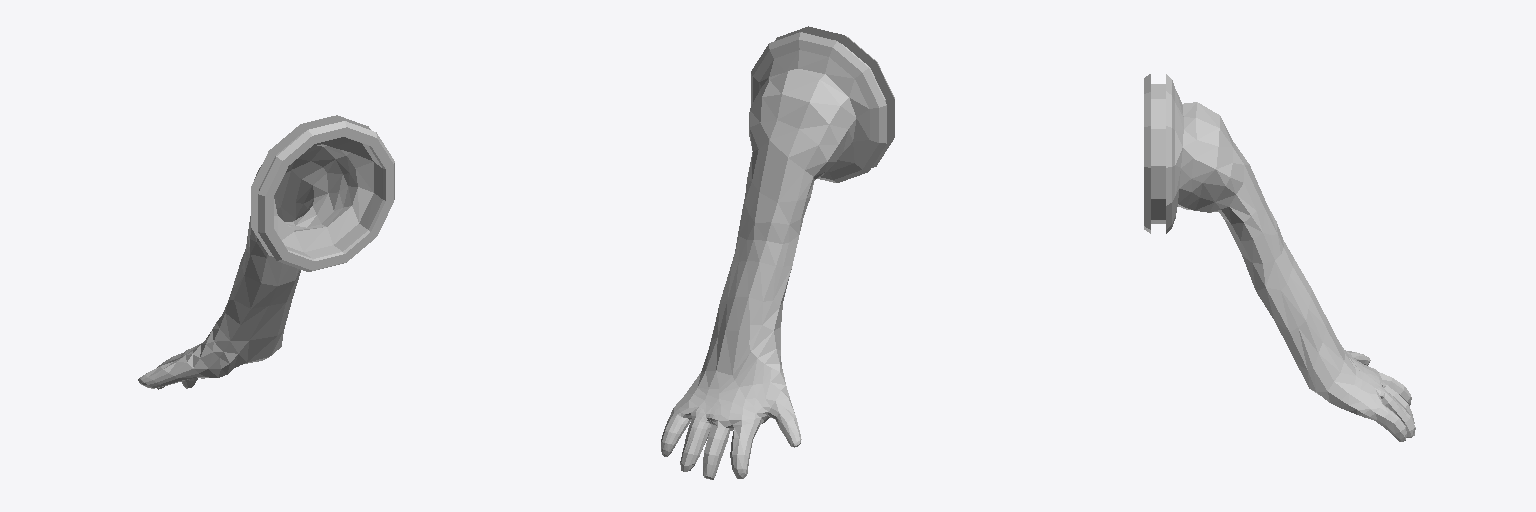
The model's file is cloves2.obj.
The picture shows the model from 3 angles: view 1: azimuth 30°, elevation 25°; view 2: azimuth 150°, elevation 25°; view 3: azimuth 270°, elevation 25°; orthographic projection.
Size of the model in its own units: 18.21 by 41.43 by 28.89.